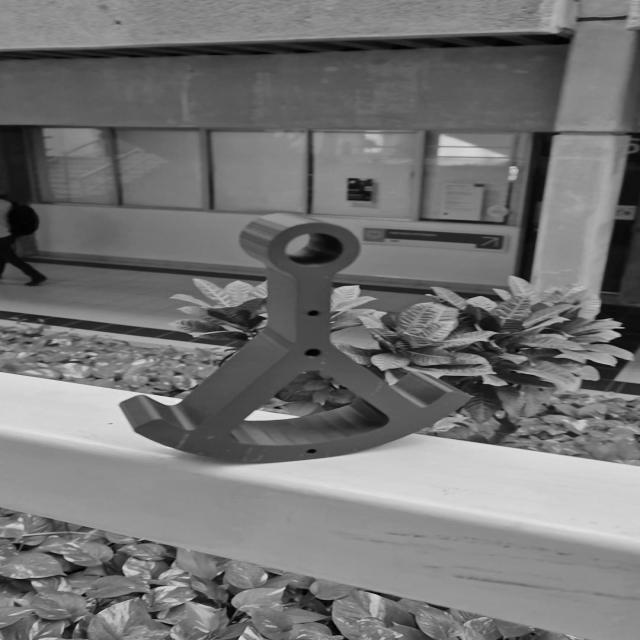haptic: (117, 212, 474, 465)
